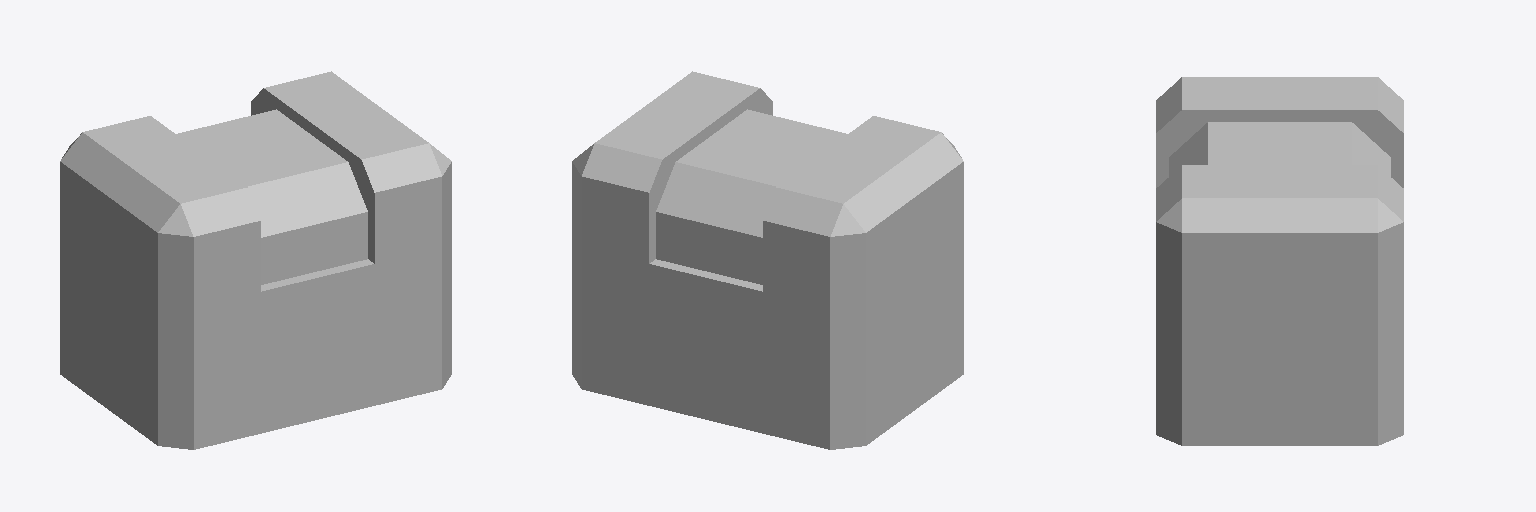
File: tritanium_crate.obj
3 views of the same model, side by side, from view 1: azimuth 30°, elevation 25°; view 2: azimuth 150°, elevation 25°; view 3: azimuth 270°, elevation 25° (orthographic).
Parts seen in each view (by area): view 1: base; view 2: base; view 3: base.
Boxes of the visible parts, x1,y1,x2,y2 form: base: [60, 71, 451, 449]; base: [572, 71, 963, 449]; base: [1156, 77, 1403, 445].
Bounding box in the file's own units: 0.9958 × 0.766 × 0.7278.